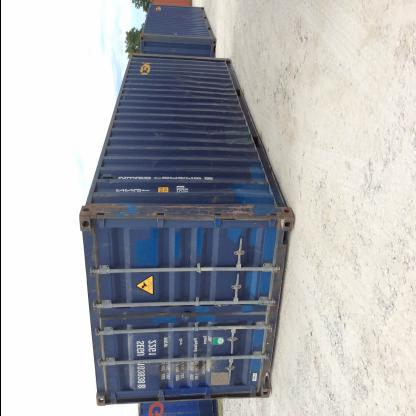Damage: (71, 200, 257, 224), (202, 94, 232, 122), (147, 124, 170, 154)
